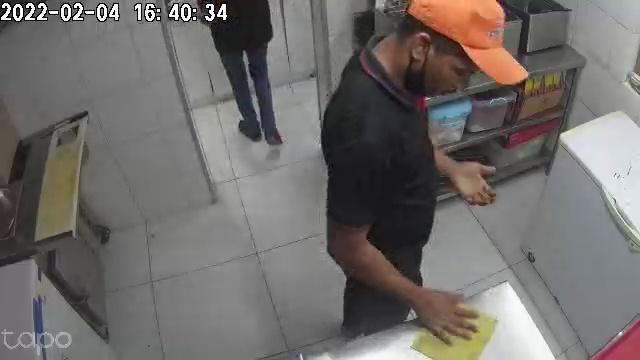no_gloves: (451, 163, 498, 207)
